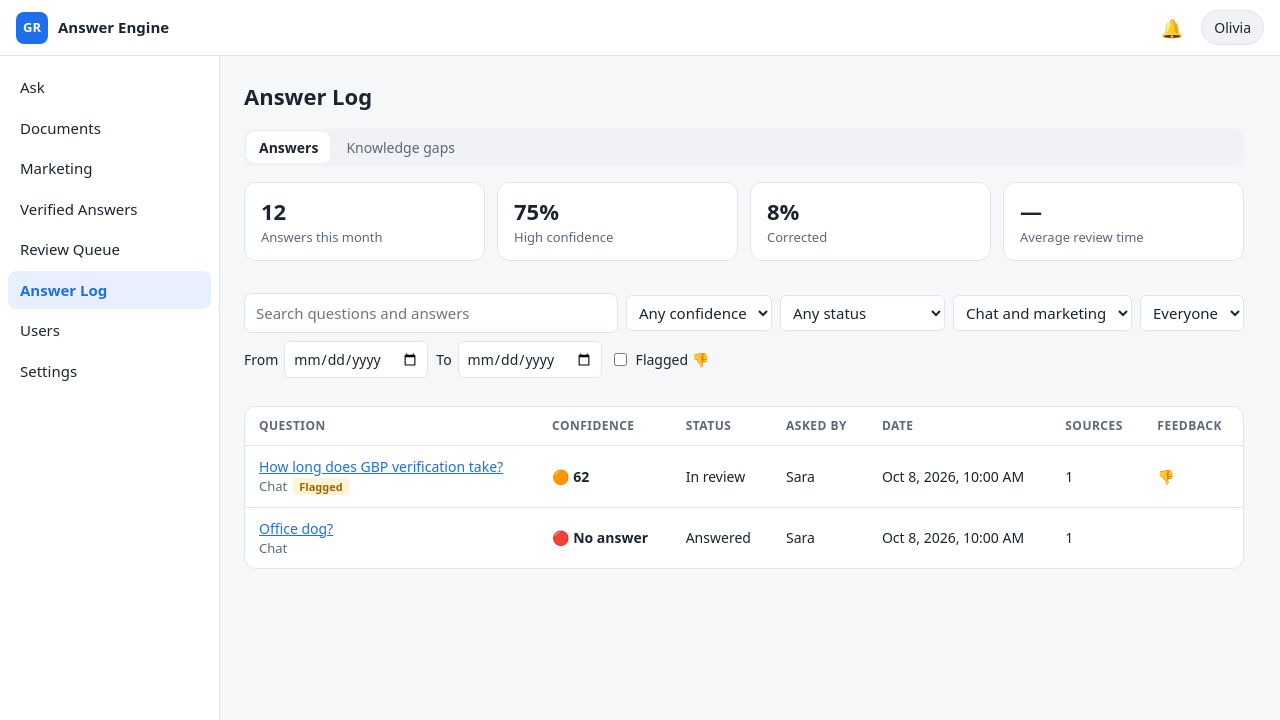
Scenario: opening an answer explains its score
The width and height of the screenshot is (1280, 720).
Click the button "How long does GBP verification take?" at (381, 466), box [259, 456, 503, 477]
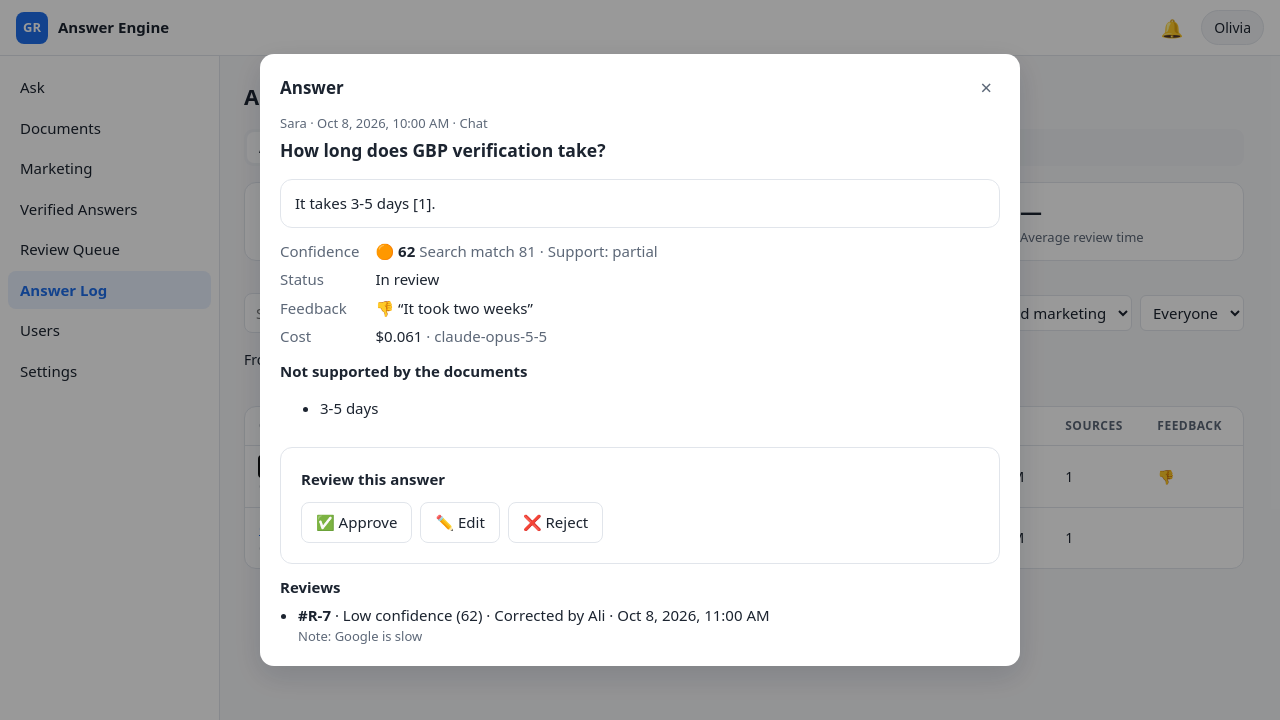
Now the text "Search match 81 · Support: partial" is shown, box [419, 241, 658, 261]
Now the list item "3-5 days" is shown, box [320, 398, 378, 418]
Now the text "👎 “It took two weeks”" is shown, box [376, 298, 533, 318]
